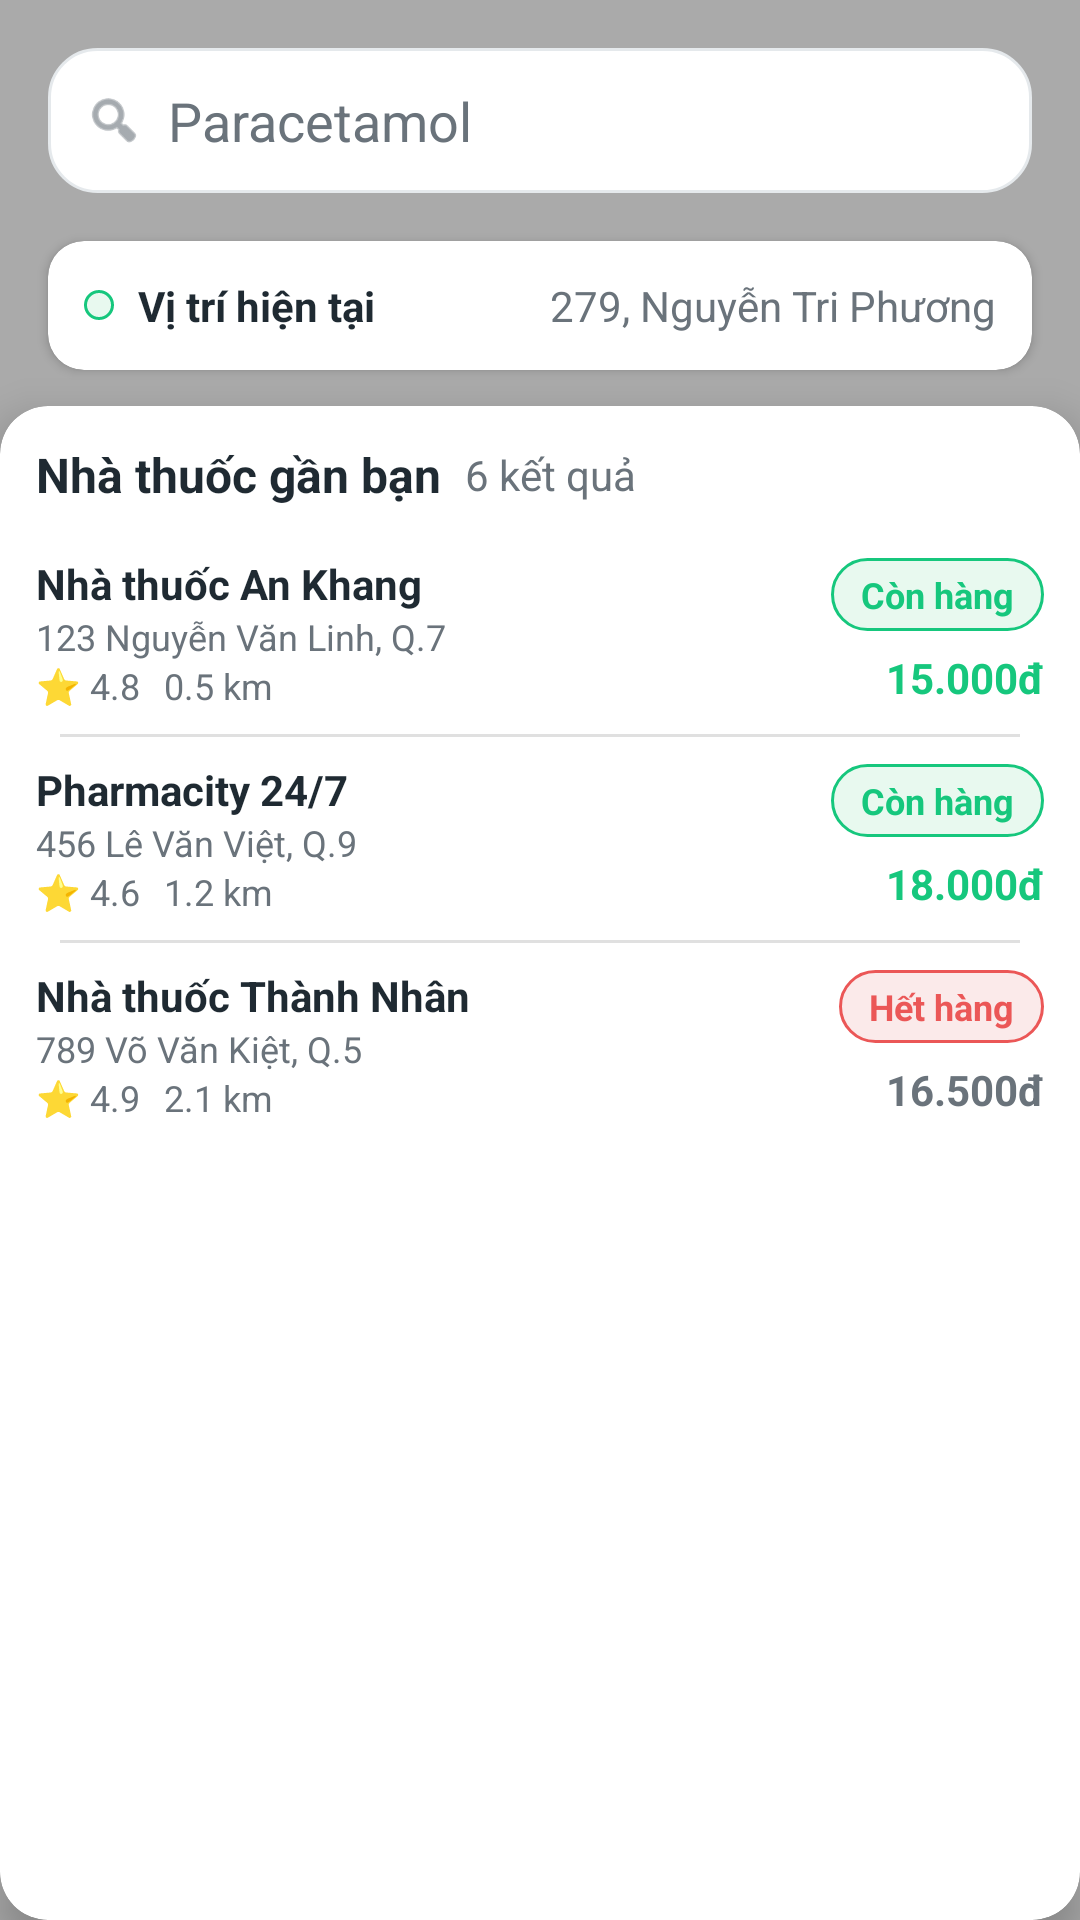

Named icons in this screenshot (1080px×1920px) and their bounding boxes, (x1, y1, x2, y2):
search: (92, 98, 136, 142)
